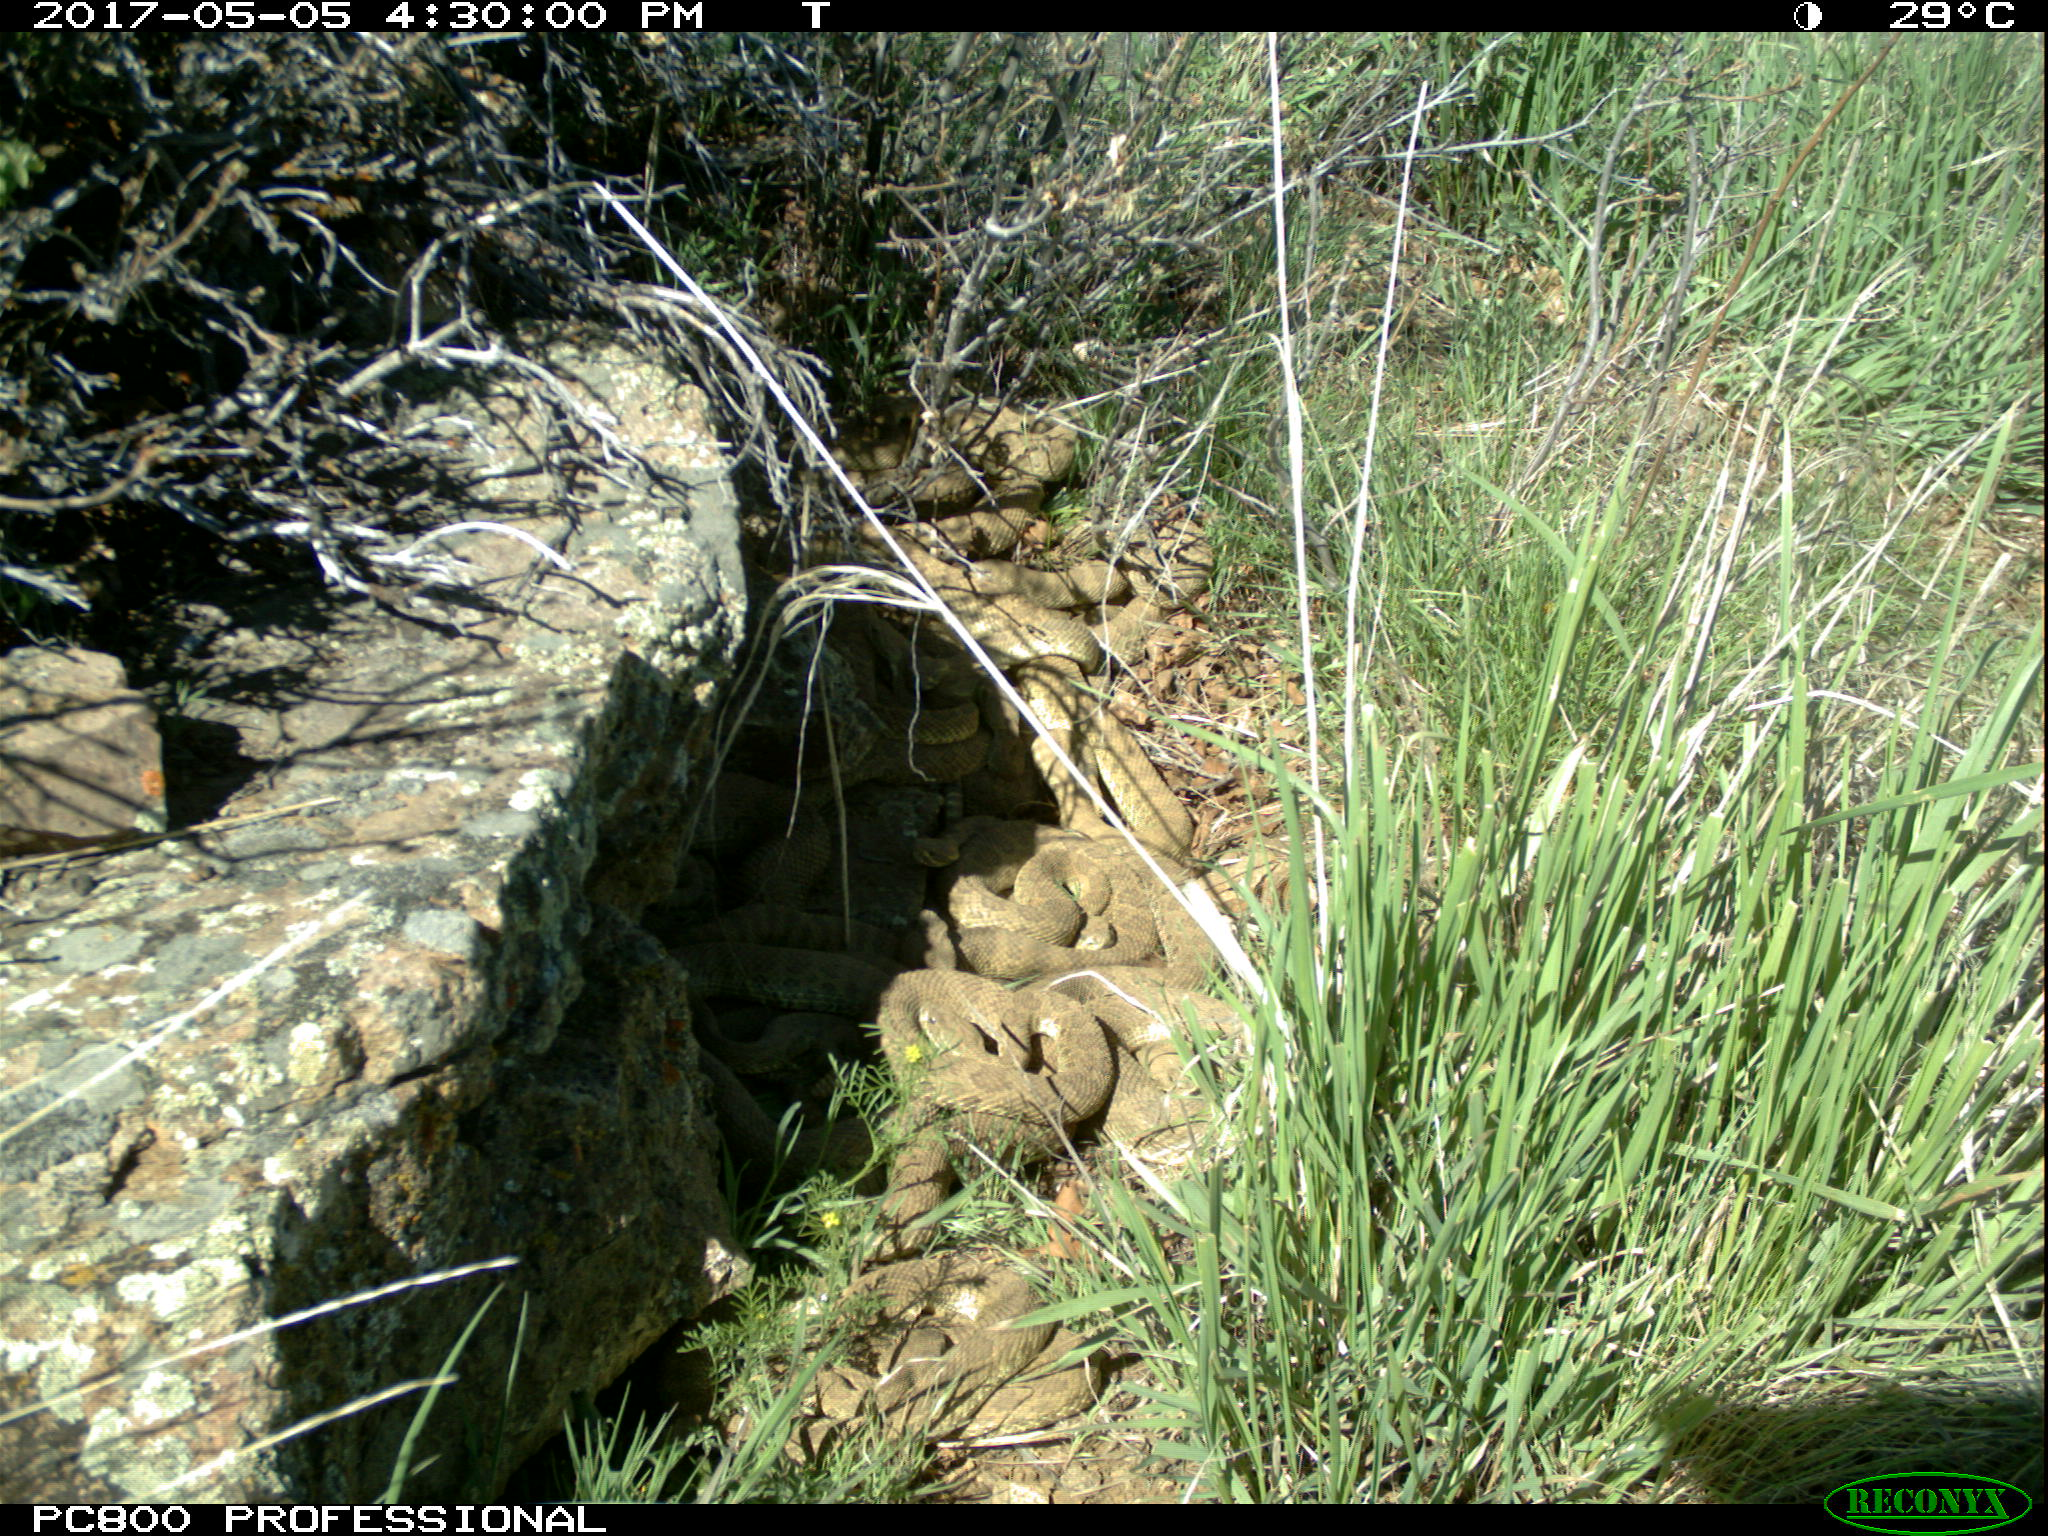snake: (885, 624, 1206, 857), (824, 1249, 1108, 1449), (897, 808, 1248, 965), (864, 968, 1130, 1141), (884, 513, 1156, 668), (819, 395, 1087, 534), (669, 891, 887, 1046), (1106, 963, 1256, 1168), (721, 781, 869, 874)
